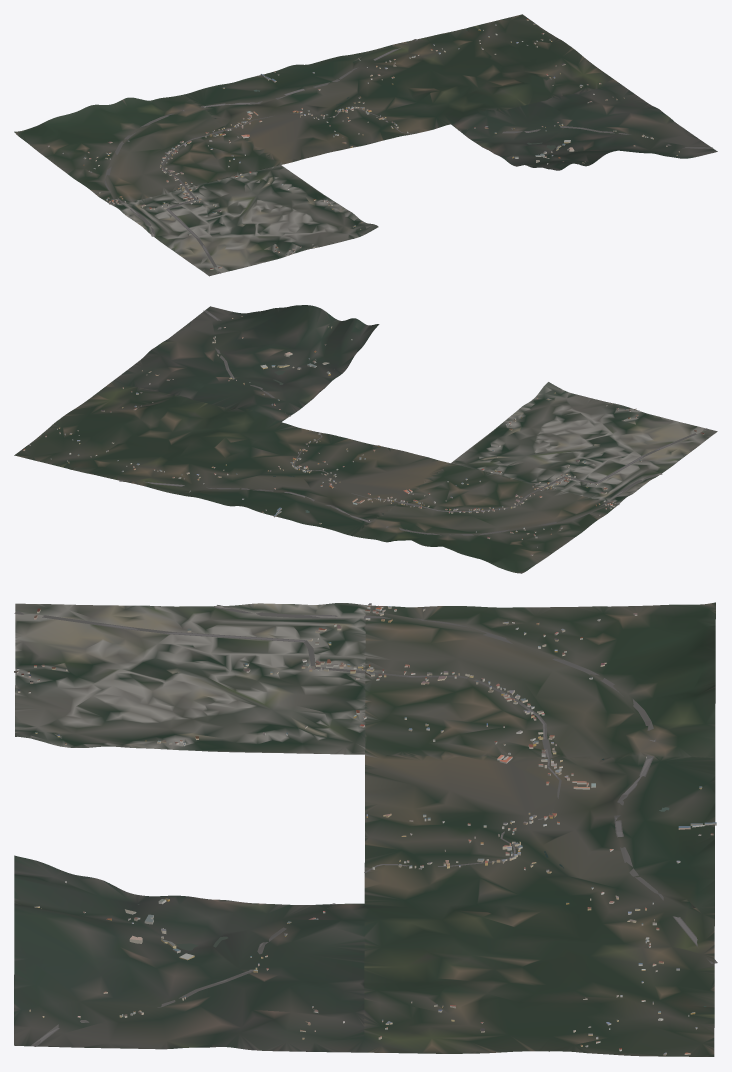
3 views of the same model, one above another, from view 1: azimuth 30°, elevation 25°; view 2: azimuth 150°, elevation 25°; view 3: azimuth 270°, elevation 25° (orthographic). The views are drawn at different scales.
Visible parts, largest first — view 1: ground, buildings, roads; view 2: ground, buildings, roads; view 3: ground, buildings, roads.
Boxes of the visible parts, x1=… form: ground: x1=14, y1=14, x2=717, y2=276; buildings: x1=47, y1=19, x2=679, y2=269; roads: x1=104, y1=39, x2=712, y2=273; ground: x1=14, y1=305, x2=717, y2=573; buildings: x1=23, y1=316, x2=704, y2=555; roads: x1=119, y1=310, x2=708, y2=535; ground: x1=14, y1=602, x2=715, y2=1056; buildings: x1=14, y1=603, x2=716, y2=1055; roads: x1=14, y1=605, x2=717, y2=1046.
Bounding box in the file's own units: 4219 × 255 × 2818.
